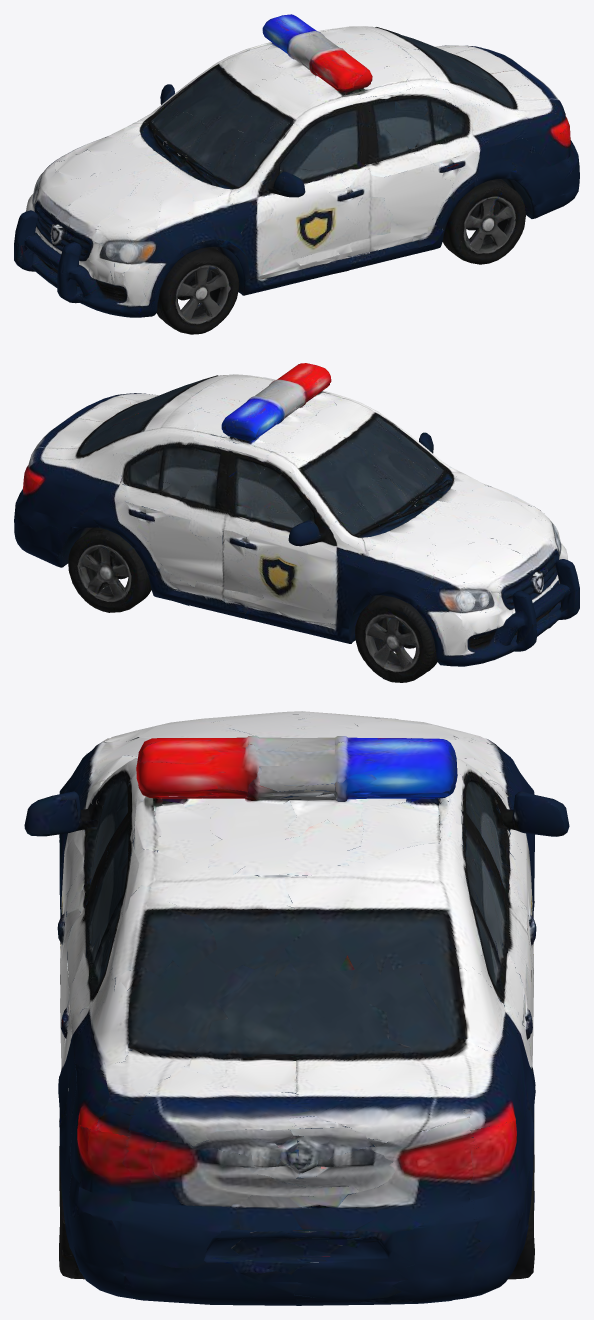
File: car_police.glb
3 views of the same model, one above another, from view 1: azimuth 30°, elevation 25°; view 2: azimuth 150°, elevation 25°; view 3: azimuth 270°, elevation 25° (orthographic). The views are drawn at different scales.
Visible parts, largest first — view 1: Mesh_0; view 2: Mesh_0; view 3: Mesh_0.
Boxes of the visible parts, x1,y1,x2,y2 form: Mesh_0: [14, 14, 579, 334]; Mesh_0: [14, 363, 579, 682]; Mesh_0: [24, 711, 569, 1305].
Bounding box in the file's own units: 4.5 × 1.76 × 2.08.
Materials: 1 (1 with a texture image).
